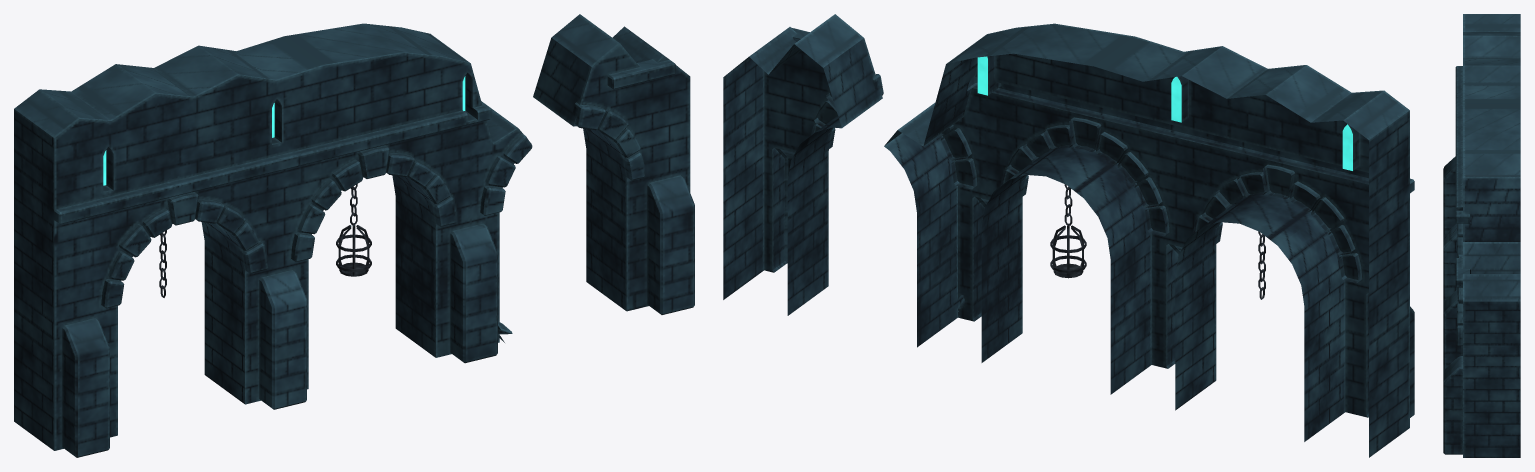
The model's file is BG_Ruins.fbx.
3 renders of one model, left to right at view 1: azimuth 30°, elevation 25°; view 2: azimuth 150°, elevation 25°; view 3: azimuth 270°, elevation 25°, orthographic. The views are drawn at different scales.
Parts seen in each view (by area): view 1: BG_Ruins; view 2: BG_Ruins; view 3: BG_Ruins.
Part boxes in pixels (box(x1,y1,x2,y2)): BG_Ruins: box(14, 14, 694, 457); BG_Ruins: box(723, 14, 1414, 457); BG_Ruins: box(1443, 14, 1520, 457).
Bounding box in the file's own units: 20 × 10 × 2.95.
